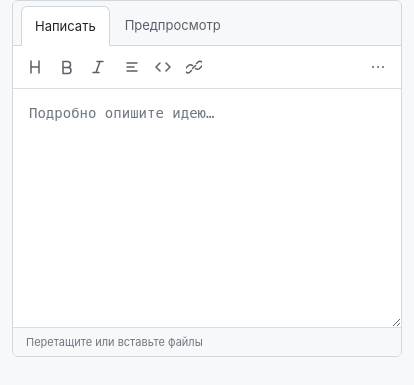
Test case: MarkdownEditor › opens the additional-functions menu
What coordinates should you click on to do the following:
click the button named "Дополнительные функции"
I would click on:
 (378, 67)
Its box is left=363, top=52, right=393, bottom=82.
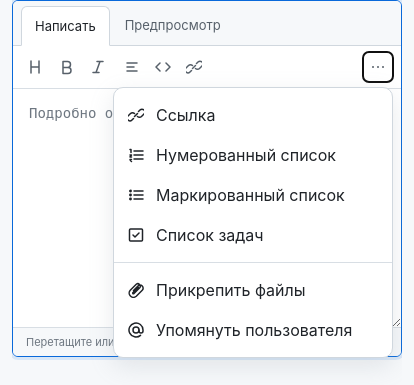
Expected: the menu is shown, left=113, top=87, right=393, bottom=358
Expected: the menu item "Прикрепить файлы" is shown, left=114, top=270, right=392, bottom=310
